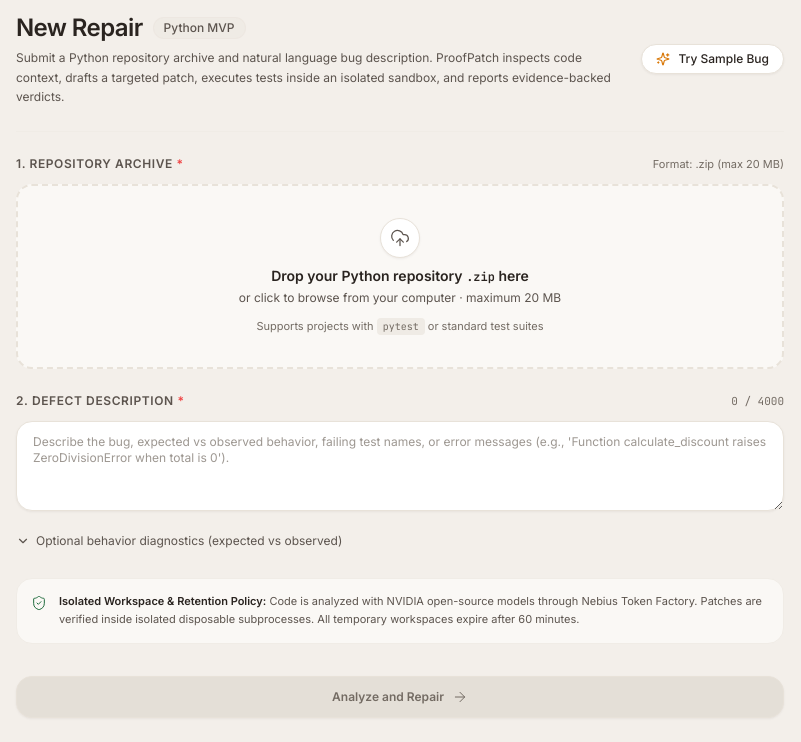
Test: NewRepairPage › handles Try Sample Bug failure flow
The width and height of the screenshot is (801, 742).
Click the button "Try Sample Bug".
click(713, 59)  # box [642, 44, 784, 74]
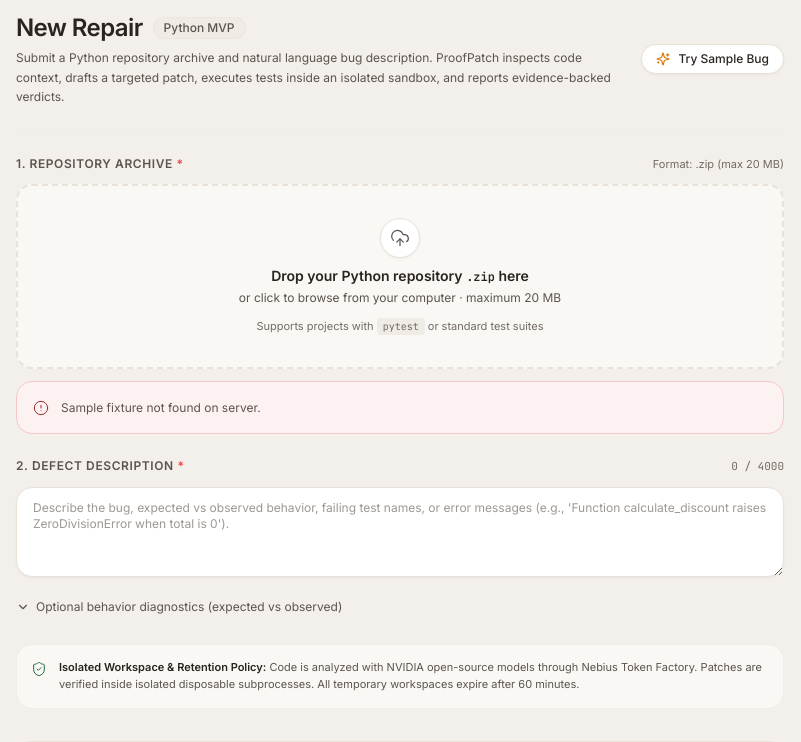
Check: the text "Sample fixture not found on server." is shown, box [61, 400, 261, 414]
